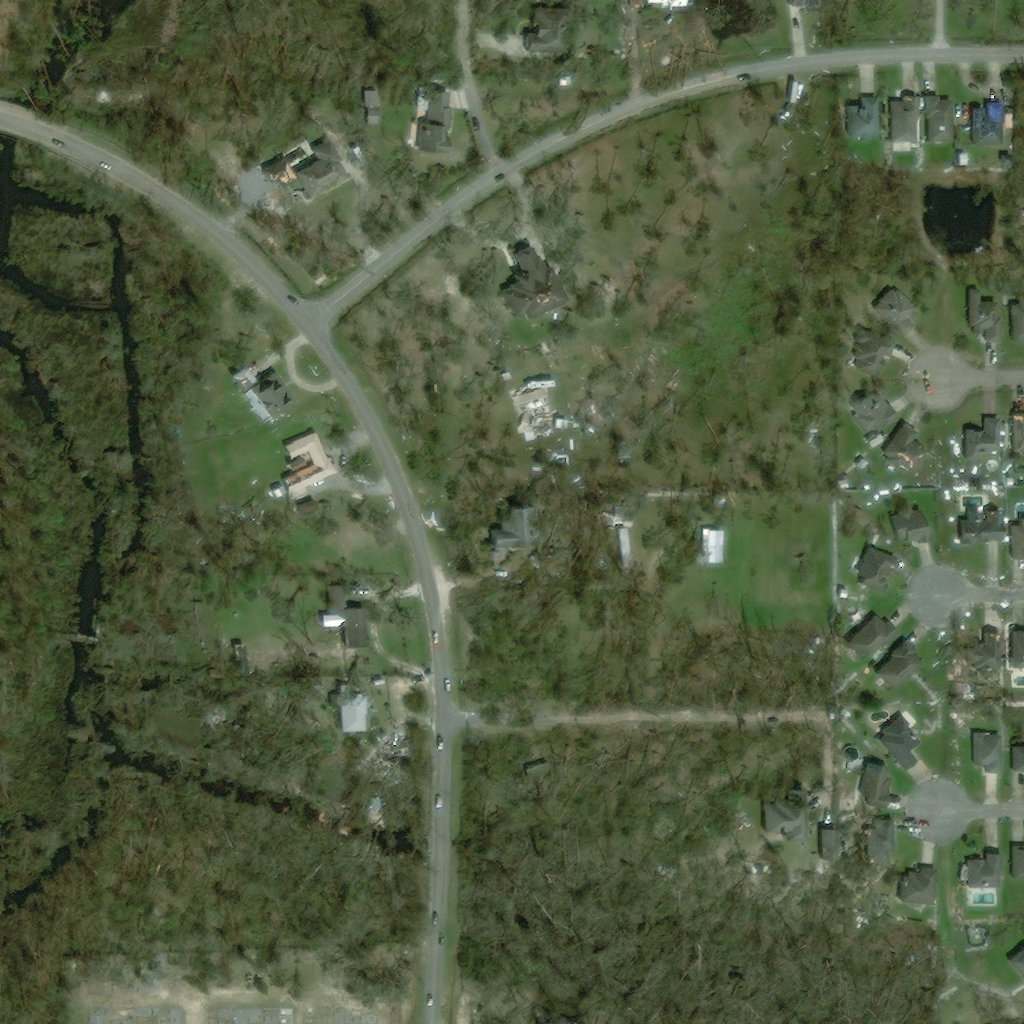destroyed: (514, 380, 555, 422)
minor_damage: (273, 431, 338, 500), (505, 244, 563, 318), (235, 367, 298, 419), (294, 151, 349, 197), (885, 422, 928, 472), (958, 103, 1001, 145), (961, 508, 1004, 543), (337, 684, 366, 730), (891, 96, 920, 142), (966, 631, 1001, 668), (869, 818, 894, 861)
no_damage: (320, 585, 366, 644), (848, 612, 898, 662), (862, 763, 910, 814), (877, 637, 922, 689), (875, 287, 921, 337), (880, 714, 921, 770), (418, 90, 455, 152), (852, 387, 900, 434), (857, 326, 900, 376), (851, 546, 898, 591), (765, 788, 804, 840), (970, 288, 1002, 342), (891, 504, 933, 544), (967, 416, 1005, 459), (531, 5, 566, 49), (970, 853, 1008, 893), (899, 867, 937, 904), (849, 96, 878, 140), (924, 96, 953, 140), (976, 732, 1002, 773), (703, 529, 725, 562), (1007, 631, 1023, 671), (1013, 499, 1023, 559), (1013, 413, 1023, 472), (610, 495, 634, 517), (1013, 296, 1023, 341), (288, 456, 307, 471), (647, 0, 687, 7), (865, 431, 883, 446), (788, 0, 811, 11), (1015, 746, 1023, 773), (555, 412, 569, 426), (604, 403, 619, 415), (959, 152, 971, 165), (859, 458, 872, 470), (948, 524, 956, 533), (841, 586, 850, 594), (1009, 477, 1017, 485), (373, 677, 382, 683)
